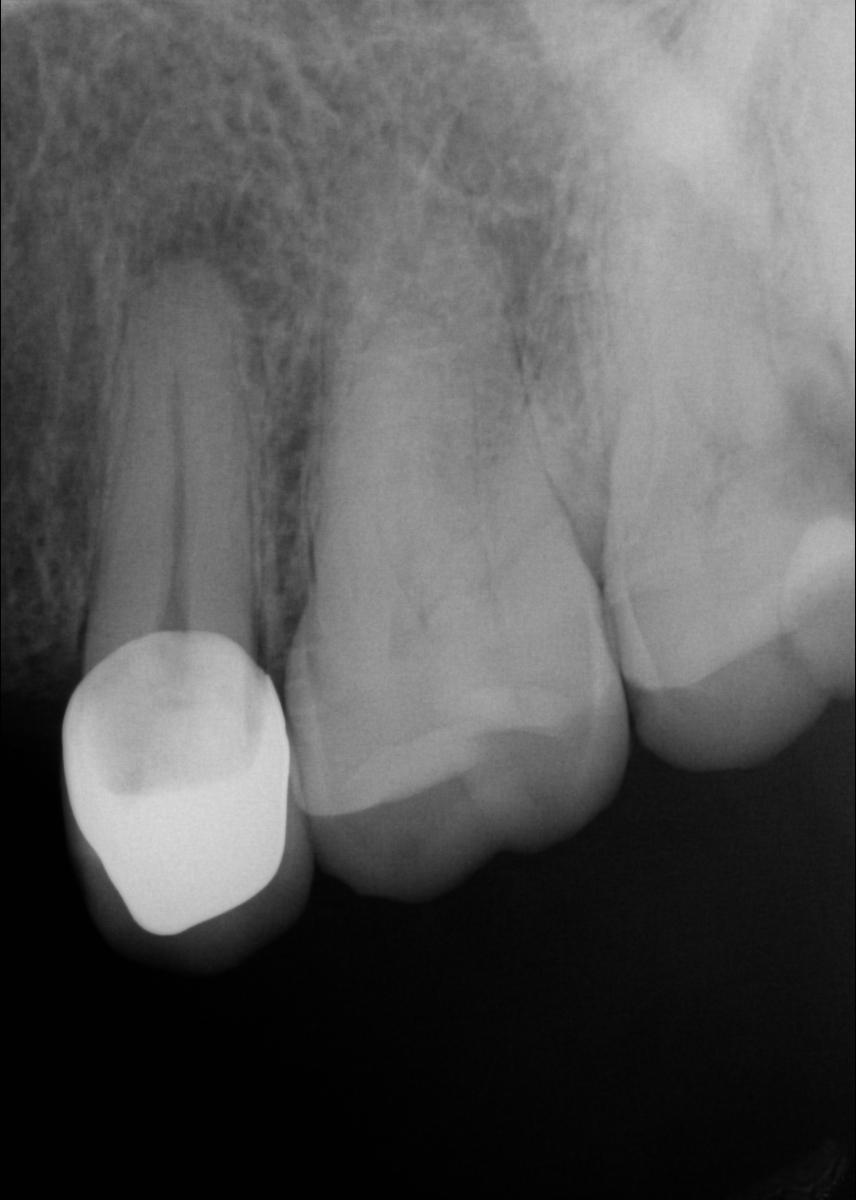Furcation Involvement: (132, 178, 281, 308)
